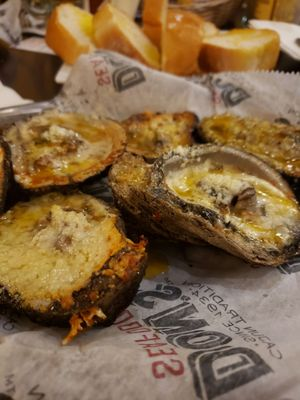soup: (0, 190, 150, 345)
